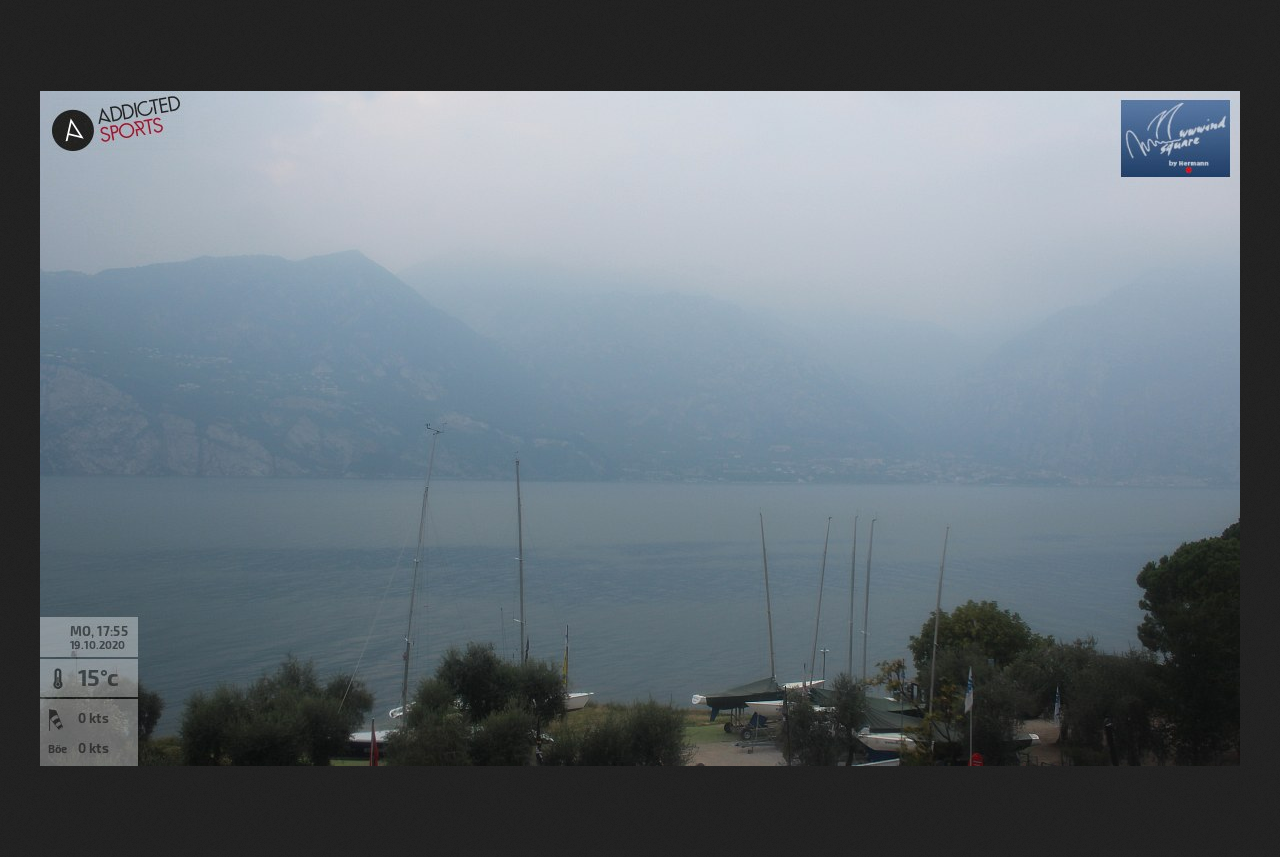no: (958, 664, 980, 719)
